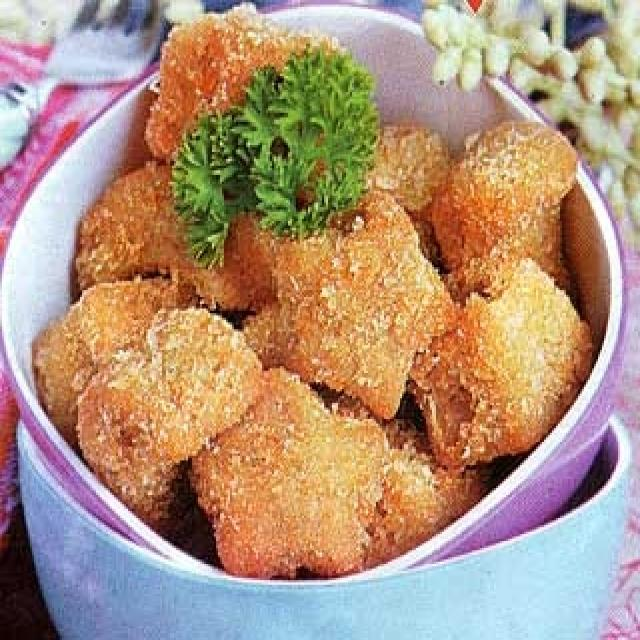鸡肉料理 含炸鸡: (12, 12, 622, 596)
